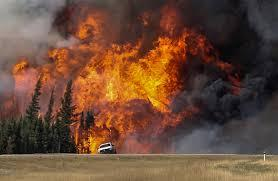fire: (11, 13, 224, 153)
yanwu: (172, 1, 278, 151), (1, 1, 278, 56), (2, 1, 69, 107)
